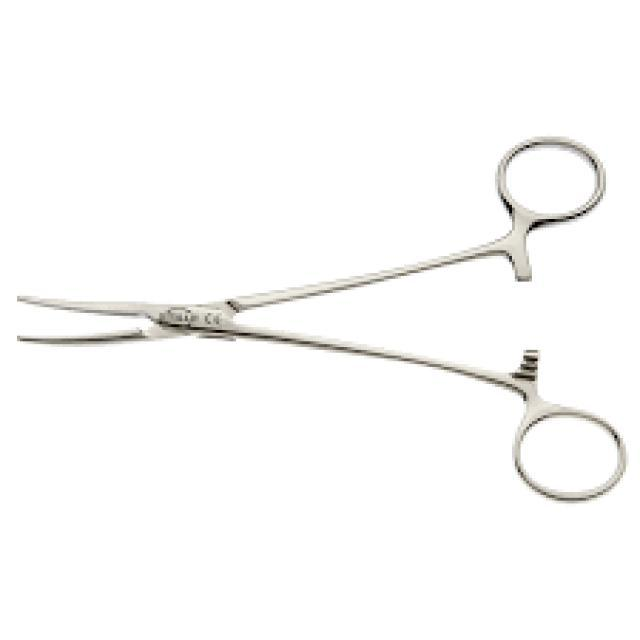Artery Forceps: (13, 133, 630, 514)
